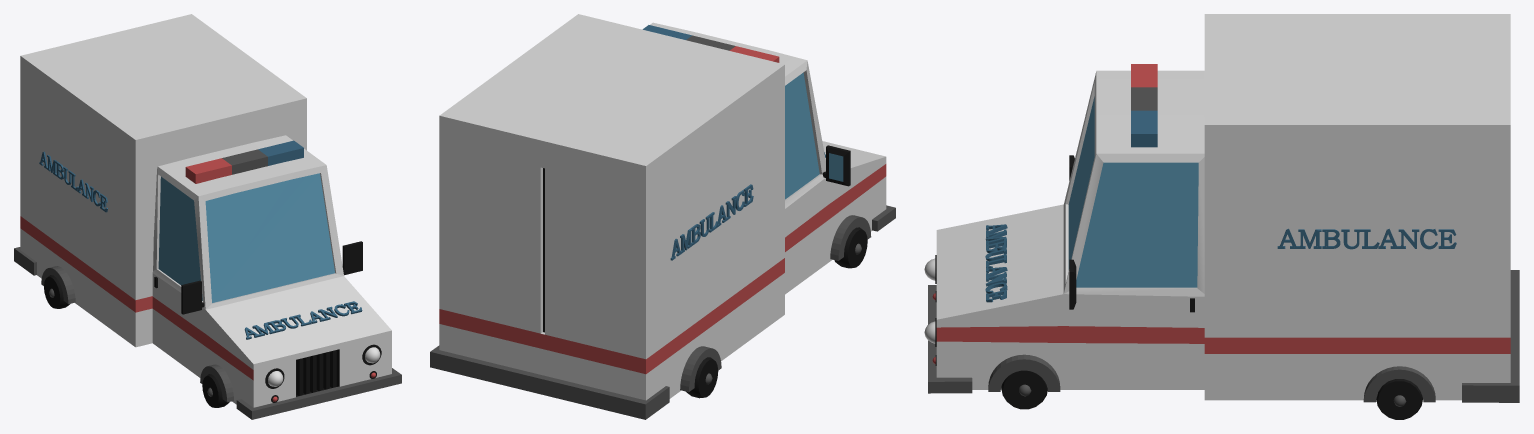
Rendered from 627fb2a5-be1f-400d-9506-cfa94dfb5f18.glb.
The picture shows the model from 3 angles, left to right: view 1: azimuth 30°, elevation 25°; view 2: azimuth 150°, elevation 25°; view 3: azimuth 270°, elevation 25°; orthographic projection. The views are drawn at different scales.
Parts seen in each view (by area): view 1: Box001; view 2: Box001; view 3: Box001.
Boxes of the visible parts, x1,y1,x2,y2 form: Box001: (14,14,401,419); Box001: (430,14,895,419); Box001: (924,14,1519,419).
Bounding box in the file's own units: 34.17 × 37 × 68.38.
